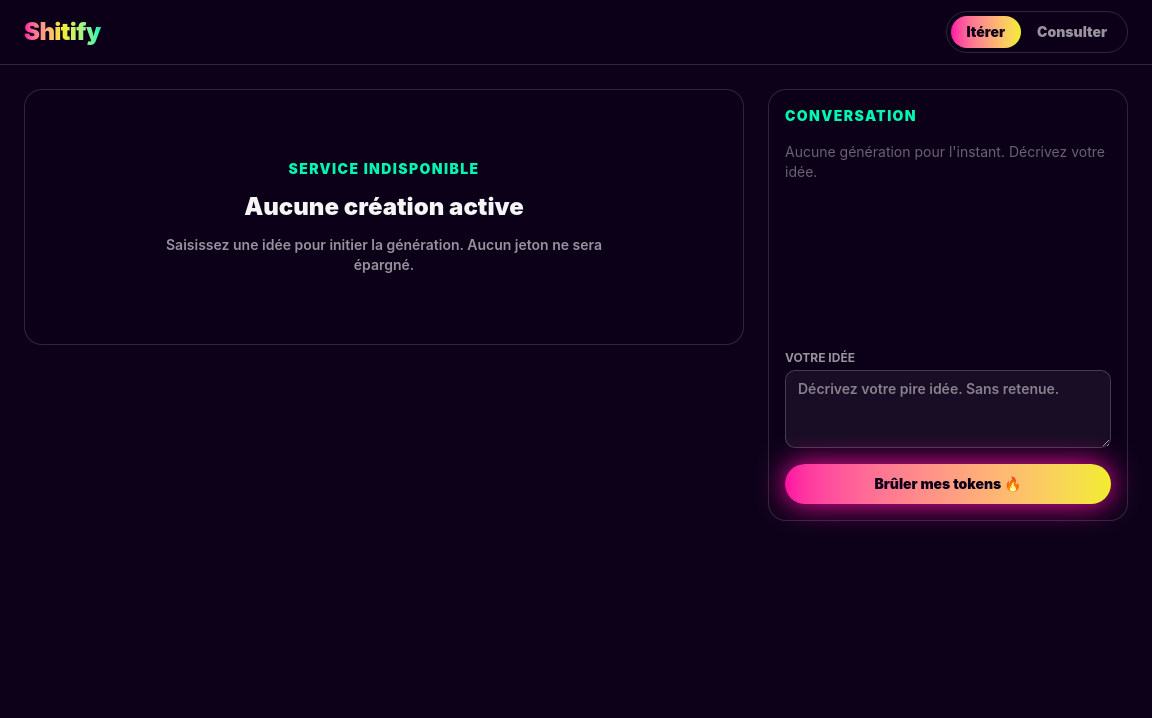
CreationWorkspace — postures itérer / consulter › soumet une idée et produit une création (pitch + prototype enchâssé)
Type "Une plateforme de transport pour oiseaux." into the text box labelled "Votre idée" at (948, 409), box [785,370,1111,448]
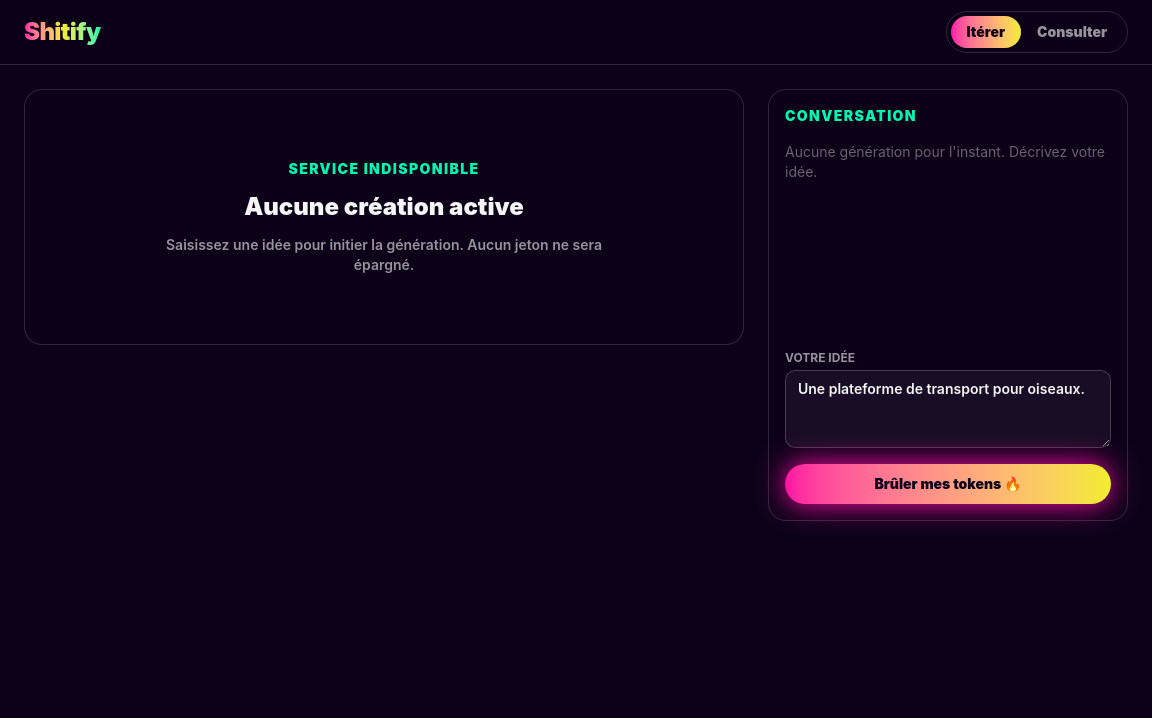
Submit the form "Votre idée Brûler mes tokens 🔥", box [785,350,1111,504]
(page scrolled)
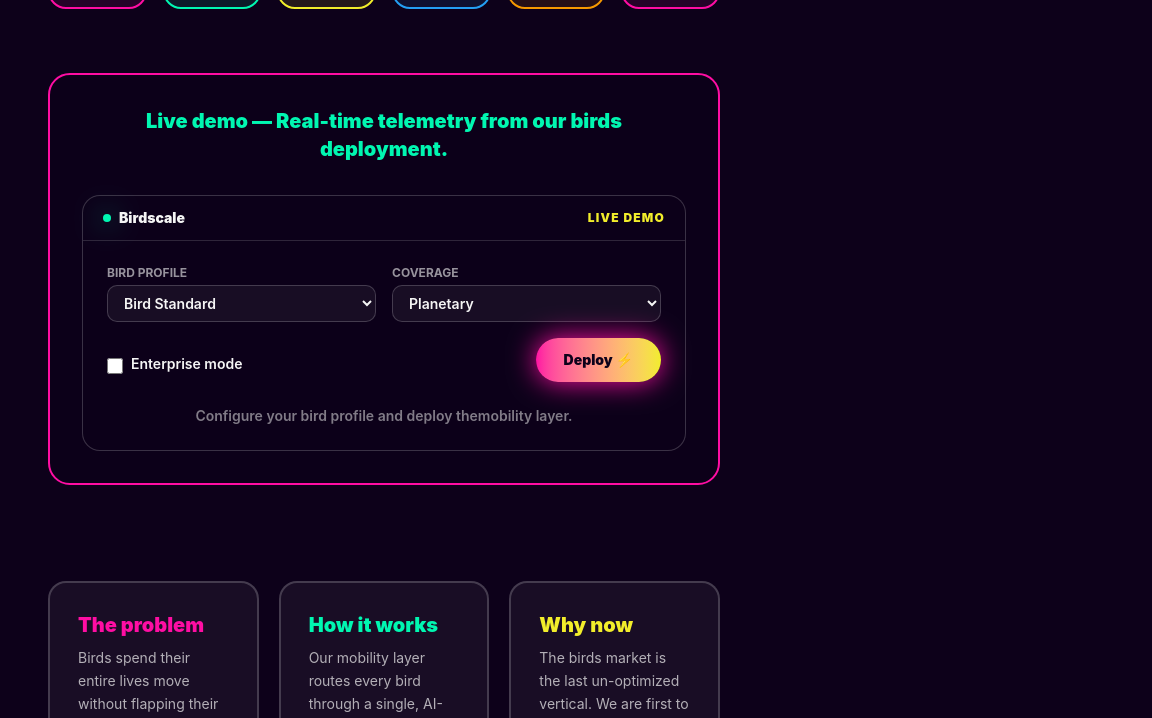
Expected: the button "Deploy ⚡" is shown, [536,338,661,382]
